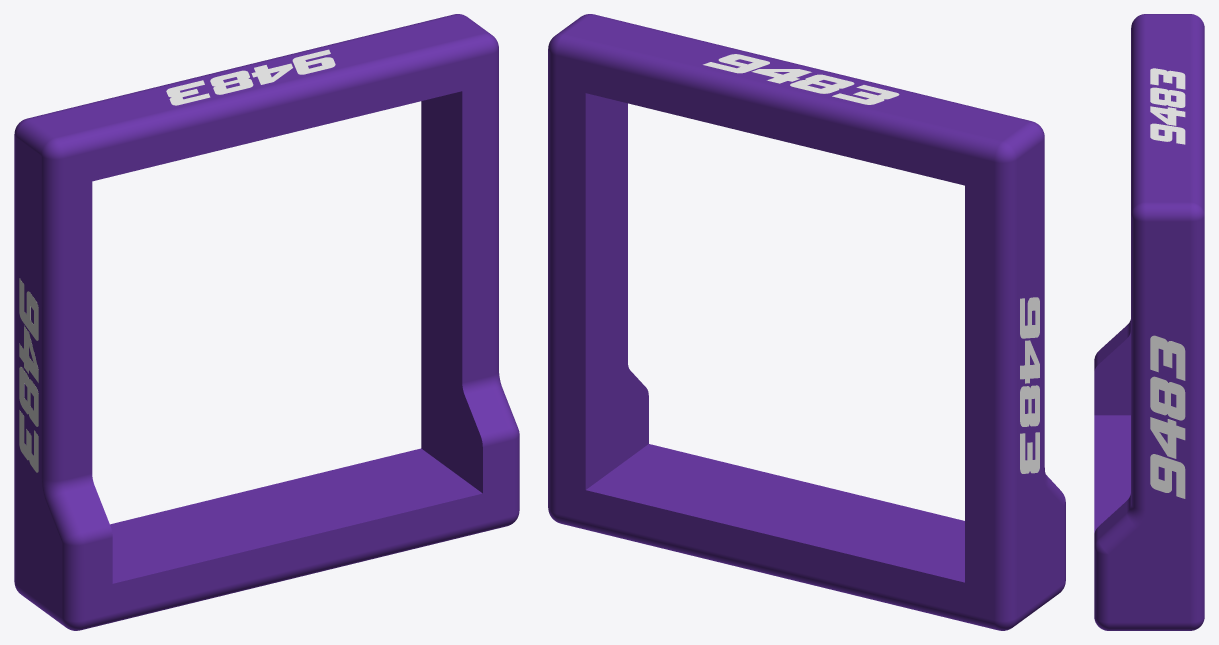
File: Bumpers.fbx
3 renders of one model, left to right at view 1: azimuth 30°, elevation 25°; view 2: azimuth 150°, elevation 25°; view 3: azimuth 270°, elevation 25°, orthographic. The views are drawn at different scales.
Parts seen in each view (by area): view 1: Bumpers; view 2: Bumpers; view 3: Bumpers.
Boxes of the visible parts, bbox=[...] form: Bumpers: bbox=[14, 14, 519, 630]; Bumpers: bbox=[548, 14, 1065, 630]; Bumpers: bbox=[1094, 14, 1204, 630].
Size of the model in its own units: 81.3 by 81.3 by 19.05.
